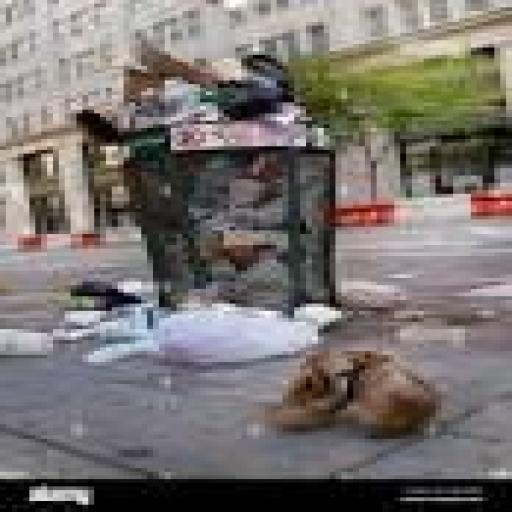poubelle_pleine: (71, 53, 398, 358)
